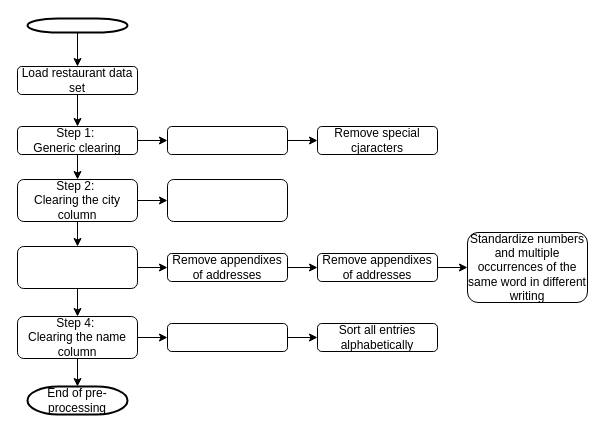
This 605x432 diagram has some shape labels left out. The shapes that lost their labels are listed below. From the top down, each one's centre as x and y in pixels, then its label:
At pixel 77 25: "Start".
At pixel 227 140: "Remove special characters".
At pixel 227 200: "Remap multiple occurrences of city names".
At pixel 77 267: "Step 3: Clearing the address column".
At pixel 227 337: "Remove city names and stop words".
